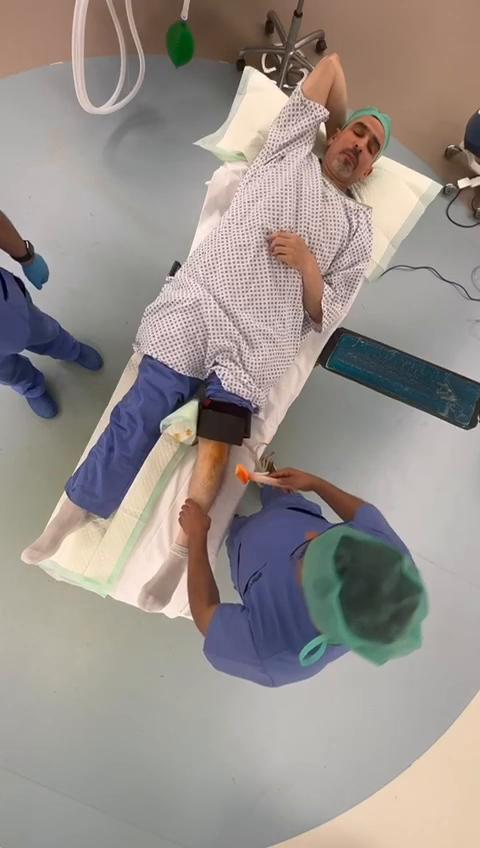patient: (22, 55, 391, 564), (137, 530, 190, 611)
prepstick: (235, 464, 283, 488)
tourniquet: (197, 399, 252, 445)
